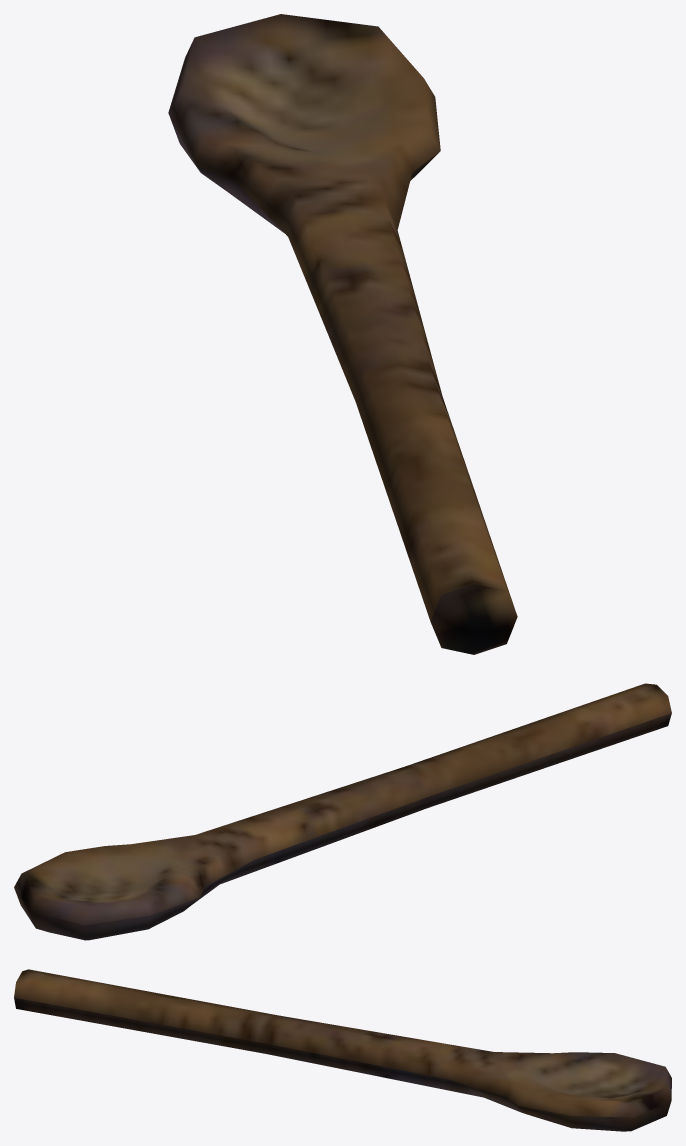
The model's file is shoulder blade.fbx.
3 views of the same model, one above another, from view 1: azimuth 30°, elevation 25°; view 2: azimuth 150°, elevation 25°; view 3: azimuth 270°, elevation 25° (orthographic). The views are drawn at different scales.
Parts seen in each view (by area): view 1: Strove.011; view 2: Strove.011; view 3: Strove.011.
Part boxes in pixels (x1,y1,x2,y2): Strove.011: [168, 14, 517, 654]; Strove.011: [14, 683, 671, 940]; Strove.011: [14, 969, 671, 1131].
Size of the model in its own units: 19.04 by 2.85 by 38.88.
1 material, 1 textured.
